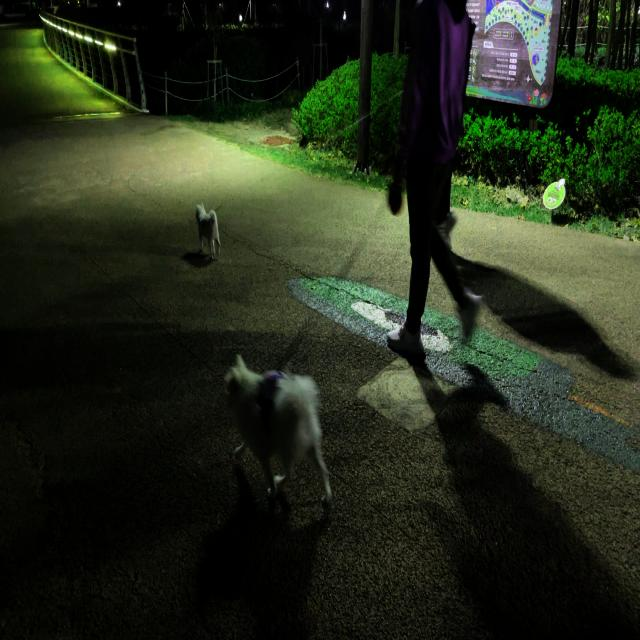Leashed_Dog: (224, 142, 446, 506), (195, 62, 446, 260)
